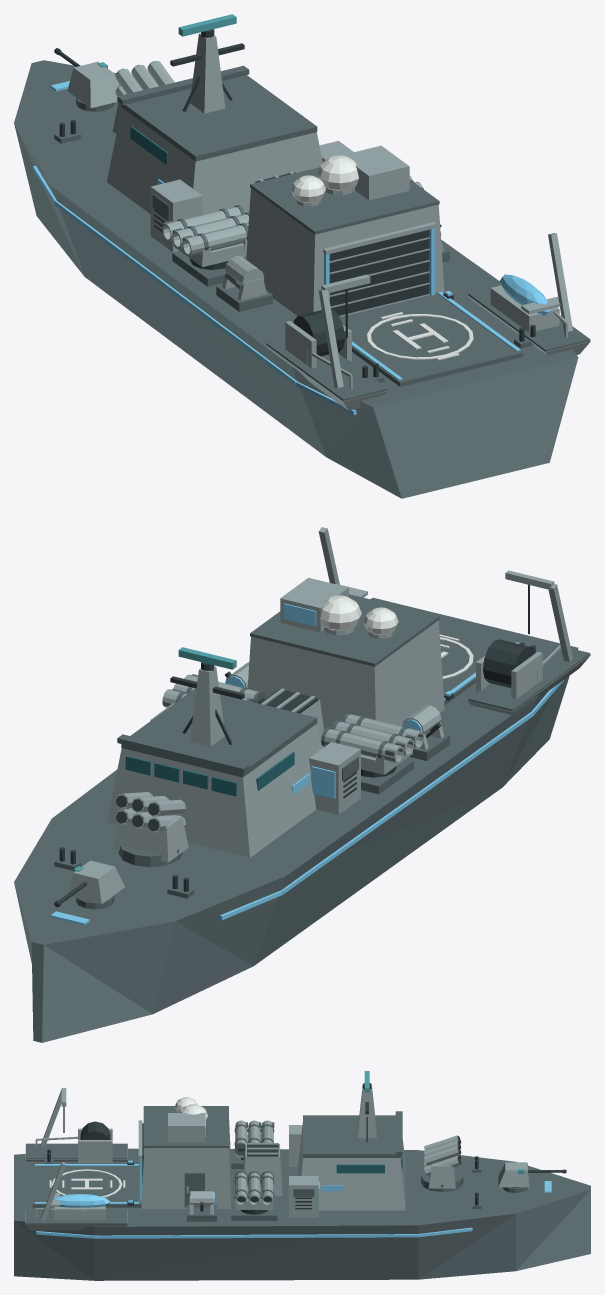
File: ESC_ASW_T3.fbx
3 views of the same model, one above another, from view 1: azimuth 30°, elevation 25°; view 2: azimuth 150°, elevation 25°; view 3: azimuth 270°, elevation 25° (orthographic). The views are drawn at different scales.
Visible parts, largest first — view 1: ContinuousHull.006, Deckhouse.006, HelicopterHangar.001, HelicopterDeck.002, Roof.006, AftFacingHangarDoor.001, HangarRoof.001, AcousticControlCabinet, ASWWorkingDeck, NavMast.002, AcousticProcessingCabinet, PrimaryGunCupola.006 (+22 smaller); view 2: ContinuousHull.006, Deckhouse.006, HelicopterHangar.001, Roof.006, HangarRoof.001, HelicopterDeck.002, ASWWorkingDeck, AcousticProcessingCabinet, ASWRocketYoke, NavMast.002, AcousticControlCabinet, PrimaryGunCupola.006 (+13 smaller); view 3: ContinuousHull.006, Deckhouse.006, HelicopterHangar.001, Roof.006, HelicopterDeck.002, HangarRoof.001, RoleHullStripe1_1.006, ASWWorkingDeck, AcousticControlCabinet, AcousticProcessingCabinet.001, ASWWorkingDeck.001, FunnelEnclosure.006 (+23 smaller).
Part boxes in pixels (left/top/right/bottom): ContinuousHull.006: left=14, top=60, right=578, bottom=498; Deckhouse.006: left=107, top=108, right=322, bottom=214; HelicopterHangar.001: left=246, top=188, right=444, bottom=315; HelicopterDeck.002: left=340, top=292, right=523, bottom=386; Roof.006: left=121, top=75, right=317, bottom=161; AftFacingHangarDoor.001: left=329, top=230, right=429, bottom=315; HangarRoof.001: left=250, top=167, right=439, bottom=234; AcousticControlCabinet: left=341, top=145, right=409, bottom=200; ASWWorkingDeck: left=266, top=338, right=387, bottom=401; NavMast.002: left=190, top=33, right=225, bottom=113; AcousticProcessingCabinet: left=150, top=179, right=202, bottom=252; PrimaryGunCupola.006: left=67, top=61, right=119, bottom=107; ContinuousHull.006: left=14, top=597, right=578, bottom=1042; Deckhouse.006: left=107, top=723, right=321, bottom=857; HelicopterHangar.001: left=247, top=620, right=444, bottom=729; Roof.006: left=121, top=688, right=317, bottom=777; HangarRoof.001: left=250, top=594, right=439, bottom=666; HelicopterDeck.002: left=439, top=623, right=516, bottom=705; ASWWorkingDeck: left=468, top=642, right=590, bottom=711; AcousticProcessingCabinet: left=309, top=742, right=360, bottom=814; ASWRocketYoke: left=112, top=808, right=188, bottom=862; NavMast.002: left=189, top=666, right=224, bottom=746; AcousticControlCabinet: left=280, top=577, right=348, bottom=632; PrimaryGunCupola.006: left=68, top=860, right=124, bottom=904; ContinuousHull.006: left=14, top=1148, right=590, bottom=1280; Deckhouse.006: left=298, top=1122, right=405, bottom=1210; HelicopterHangar.001: left=141, top=1119, right=231, bottom=1208; Roof.006: left=303, top=1115, right=400, bottom=1157; HelicopterDeck.002: left=32, top=1165, right=141, bottom=1207; HangarRoof.001: left=143, top=1106, right=228, bottom=1147; RoleHullStripe1_1.006: left=94, top=1234, right=417, bottom=1238; ASWWorkingDeck: left=26, top=1143, right=127, bottom=1159; AcousticControlCabinet: left=168, top=1113, right=204, bottom=1142; AcousticProcessingCabinet.001: left=289, top=1176, right=318, bottom=1217; ASWWorkingDeck.001: left=26, top=1209, right=127, bottom=1224; FunnelEnclosure.006: left=243, top=1144, right=282, bottom=1195.
Size of the model in its own units: 294 by 297 by 900.
